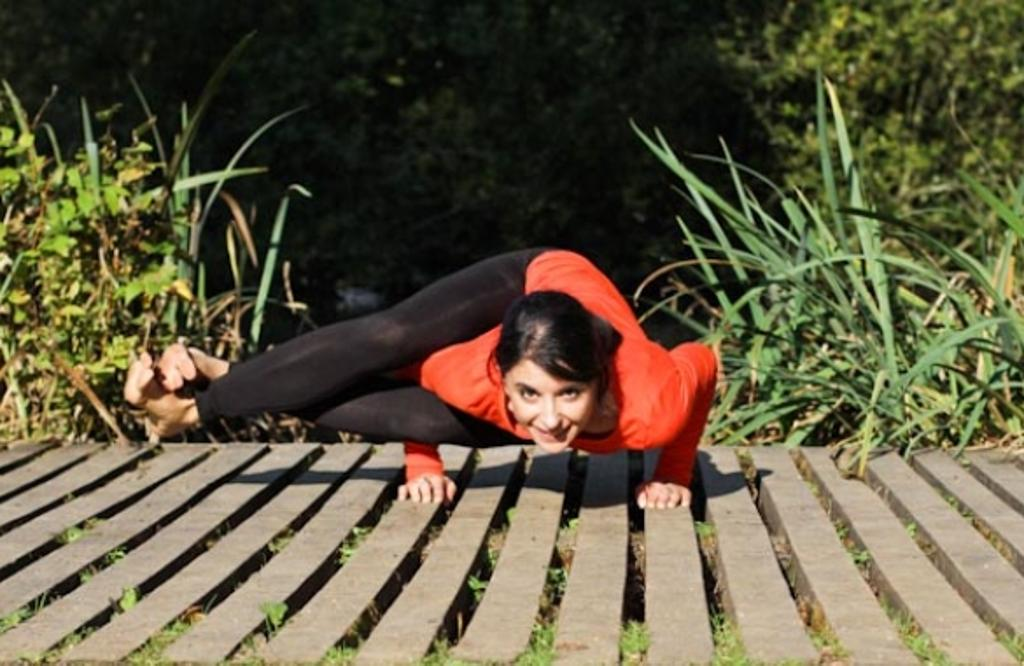face: (514, 362, 590, 450)
